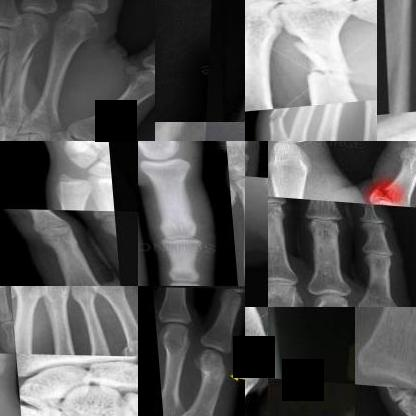fracture: (298, 56, 363, 96), (183, 343, 226, 389), (6, 54, 43, 105), (362, 169, 406, 202), (261, 112, 290, 139), (0, 55, 12, 107), (116, 334, 137, 355)
